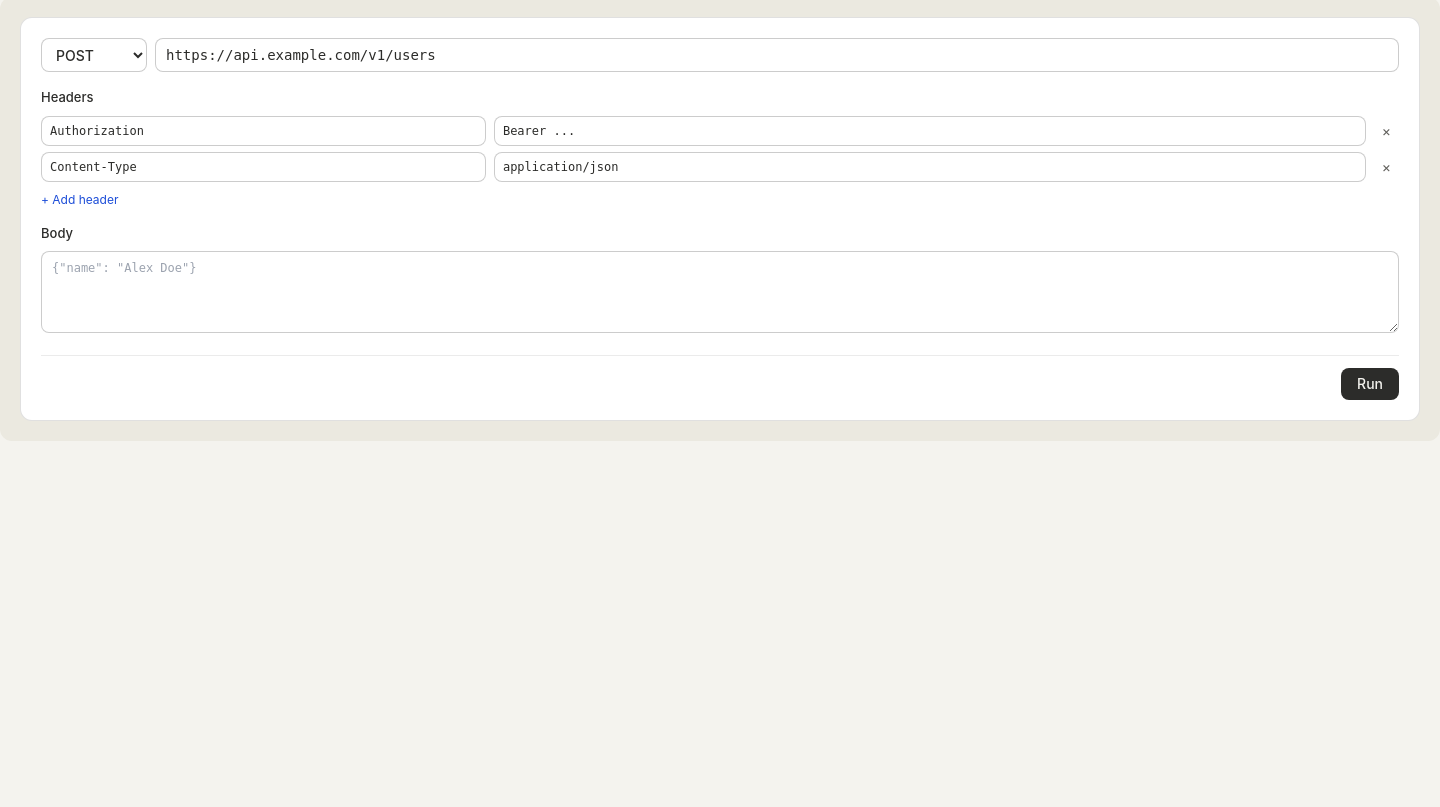
Test case: RequestComposer › Run posts the form to /api/run and renders the returned Report
The image size is (1440, 807).
Click the button "Run": (1370,384) 1341,368 -> 1399,400
(page scrolled)
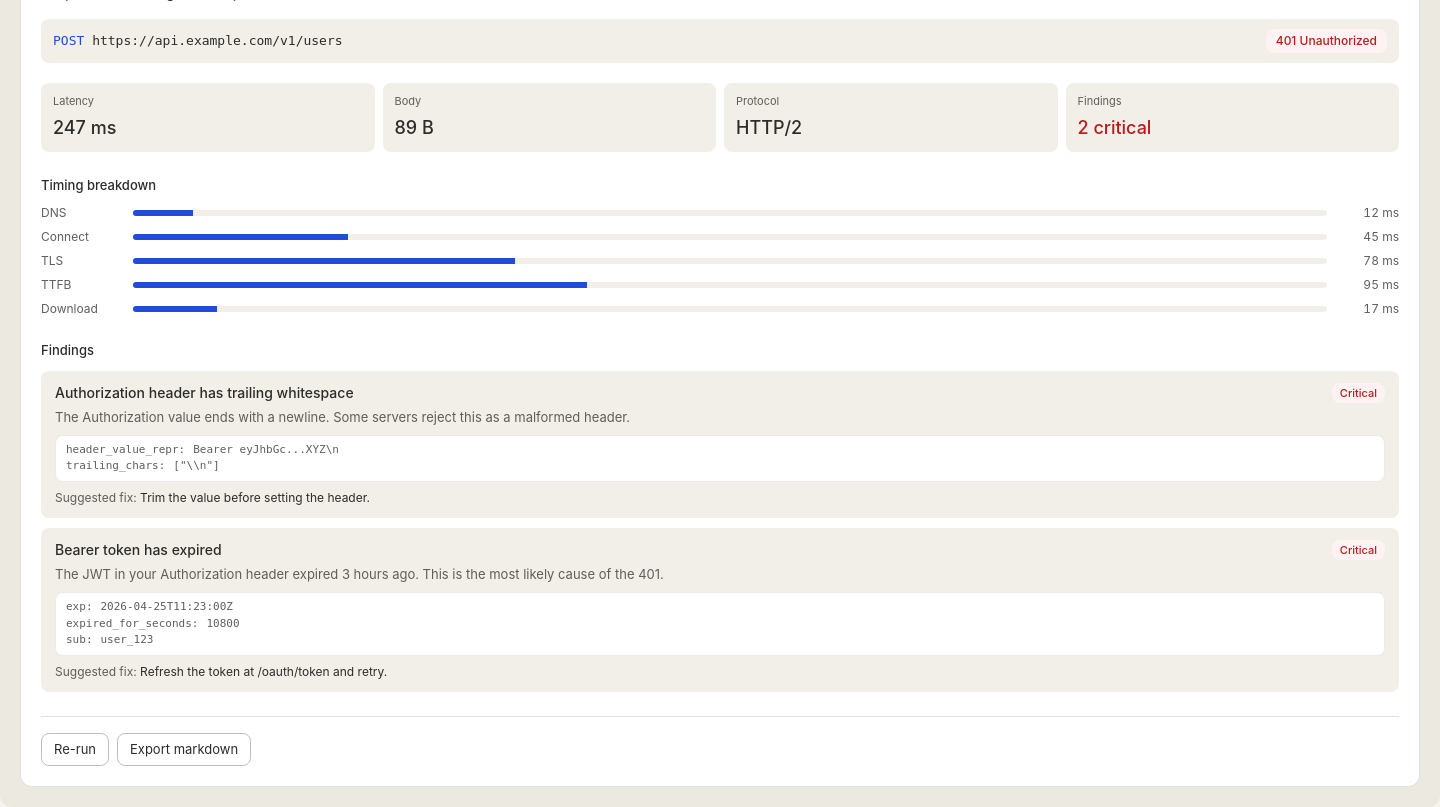
Check: the text "Bearer token has expired" is shown, box 55,540 -> 222,560
